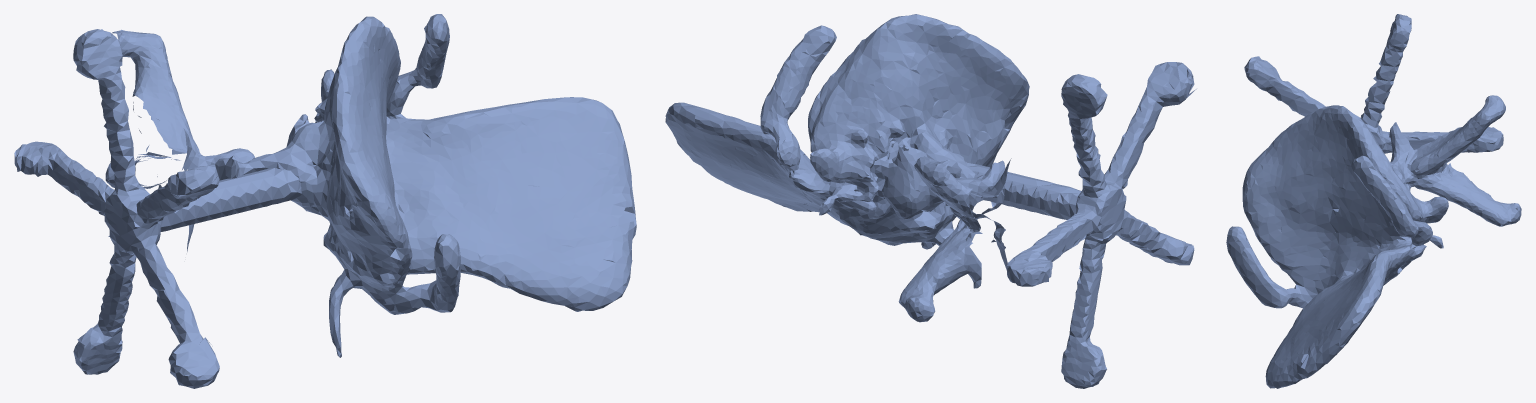
Rendered from improved.glb.
3 views of the same model, side by side, from view 1: azimuth 30°, elevation 25°; view 2: azimuth 150°, elevation 25°; view 3: azimuth 270°, elevation 25° (orthographic). The views are drawn at different scales.
Visible parts, largest first — view 1: world; view 2: world; view 3: world.
Part boxes in pixels (x1=…): world: x1=14, y1=14, x2=636, y2=388; world: x1=665, y1=14, x2=1196, y2=388; world: x1=1226, y1=14, x2=1521, y2=388.
Size of the model in its own units: 1.1 by 0.7034 by 0.7625.
